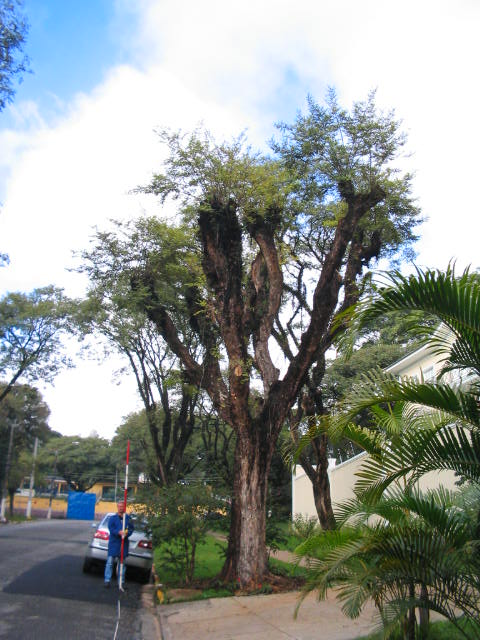stem: (208, 430, 287, 592)
stick: (115, 439, 134, 590)
tree: (70, 85, 424, 595)
